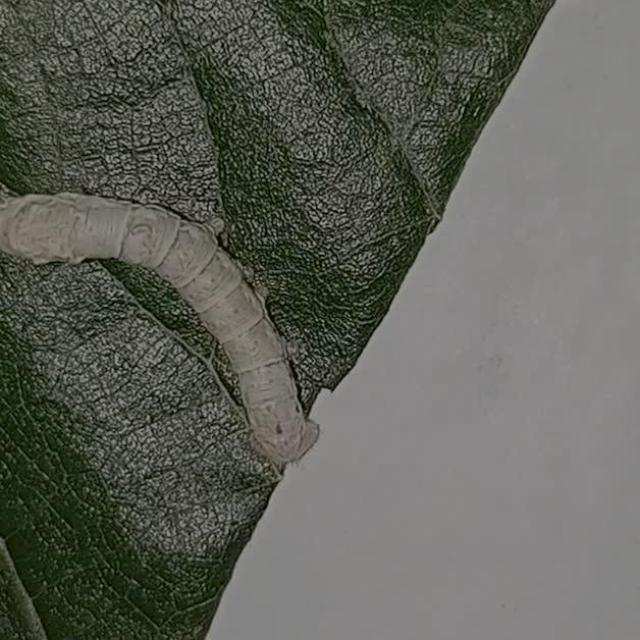Healthy: (0, 149, 363, 483)
